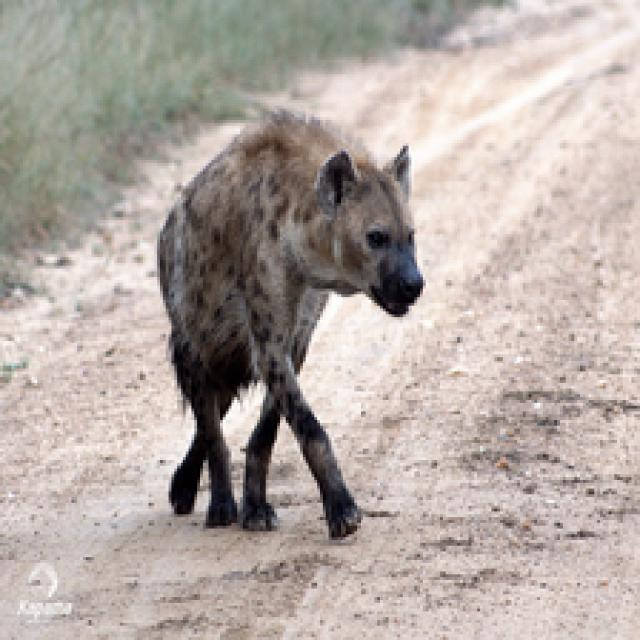hyena: (117, 101, 447, 548)
